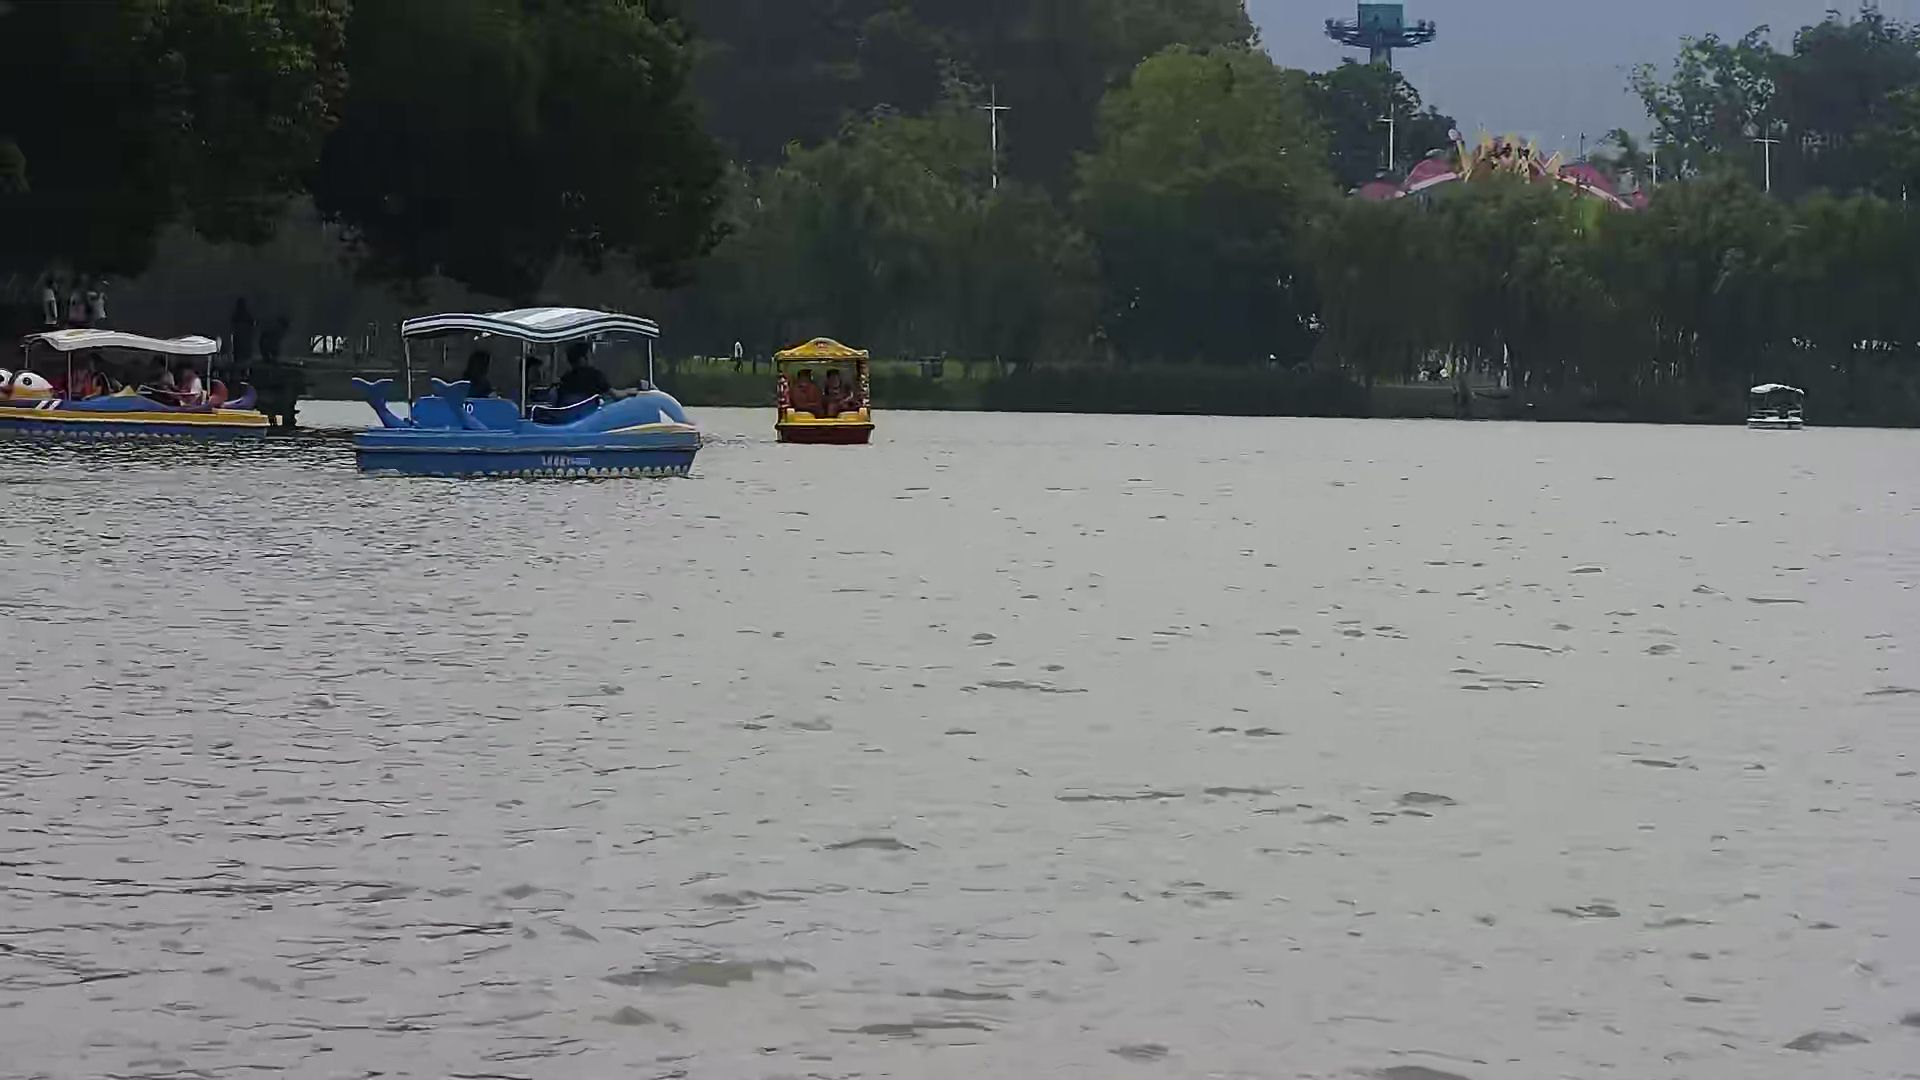boat: (345, 284, 702, 487), (36, 328, 262, 444), (771, 330, 882, 448), (1745, 373, 1808, 434)
